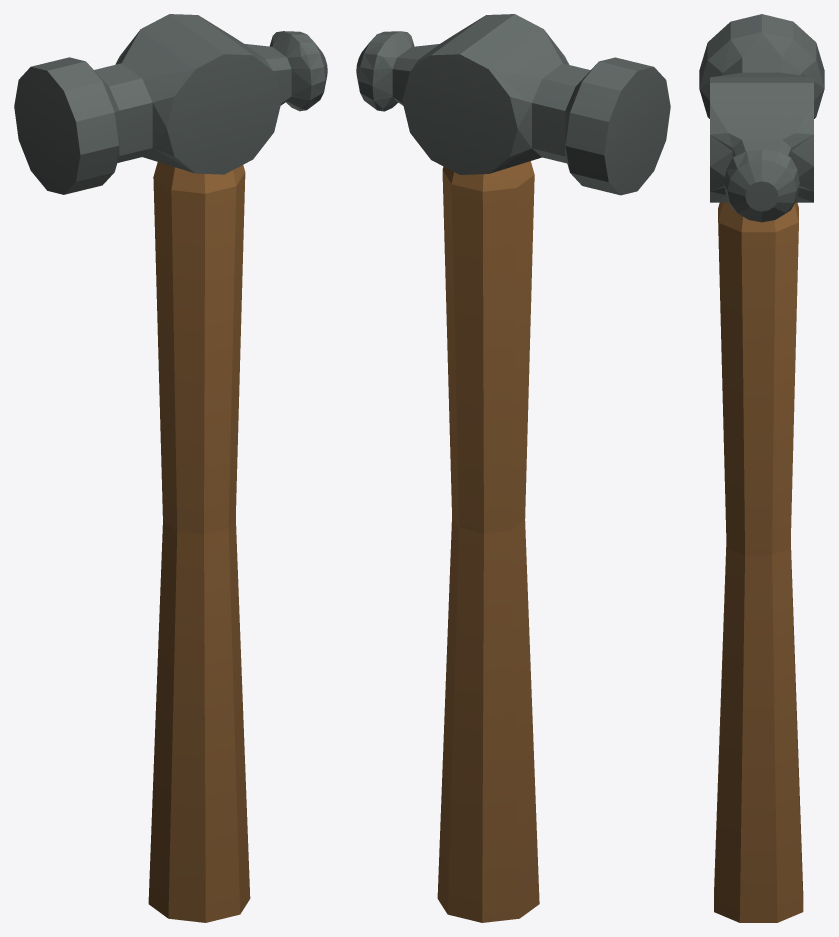
File: Tool_Hammer_02.obj
The picture shows the model from 3 angles, left to right: view 1: azimuth 30°, elevation 25°; view 2: azimuth 150°, elevation 25°; view 3: azimuth 270°, elevation 25°; orthographic projection. The views are drawn at different scales.
Visible parts, largest first — view 1: Tool_Hammer_02; view 2: Tool_Hammer_02; view 3: Tool_Hammer_02.
Boxes of the visible parts, left/top/right/bottom form: Tool_Hammer_02: left=14, top=14, right=327, bottom=922; Tool_Hammer_02: left=356, top=14, right=670, bottom=922; Tool_Hammer_02: left=699, top=14, right=824, bottom=922.
Size of the model in its own units: 0.1018 by 0.3102 by 0.043.
1 material, 1 textured.
